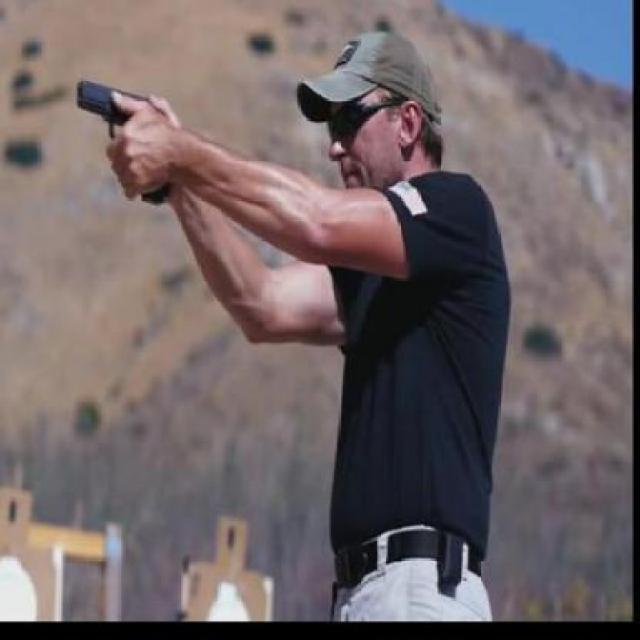gun: (70, 76, 176, 204)
